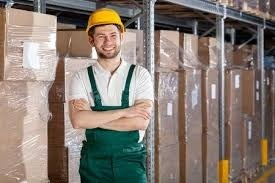helmet: (86, 8, 125, 33)
person with partial safety: (67, 6, 152, 183)
